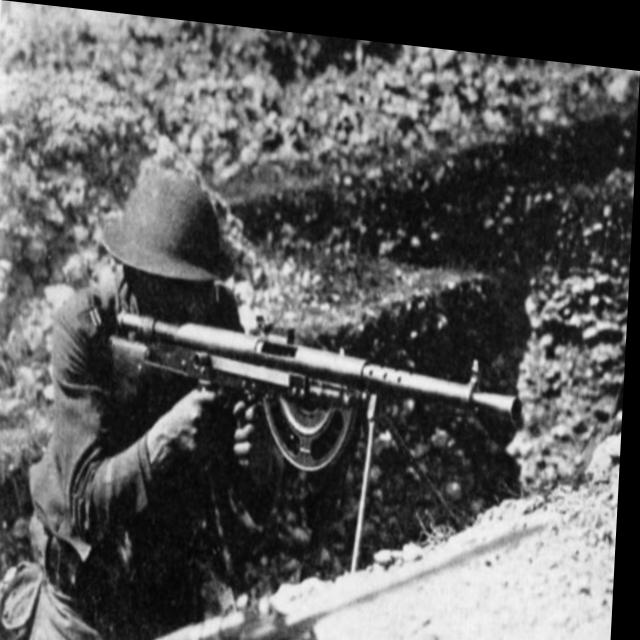tank: (36, 144, 312, 640)
